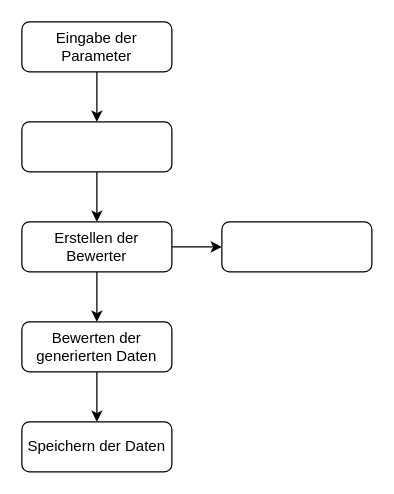
This 394x494 diagram has some shape labels left out. The centre of each missing label's shape, as x and y in pixels:
Erstellen der Regeln zur Bewertung: the point at 296,246
Generieren der Daten: the point at 96,146
